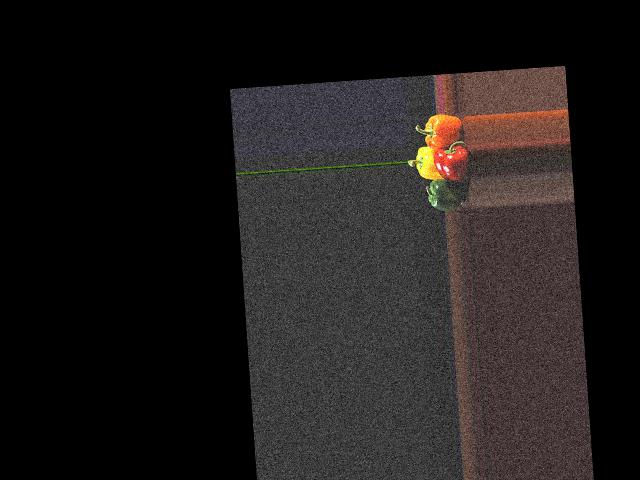bell_pepper: (418, 112, 469, 150)
